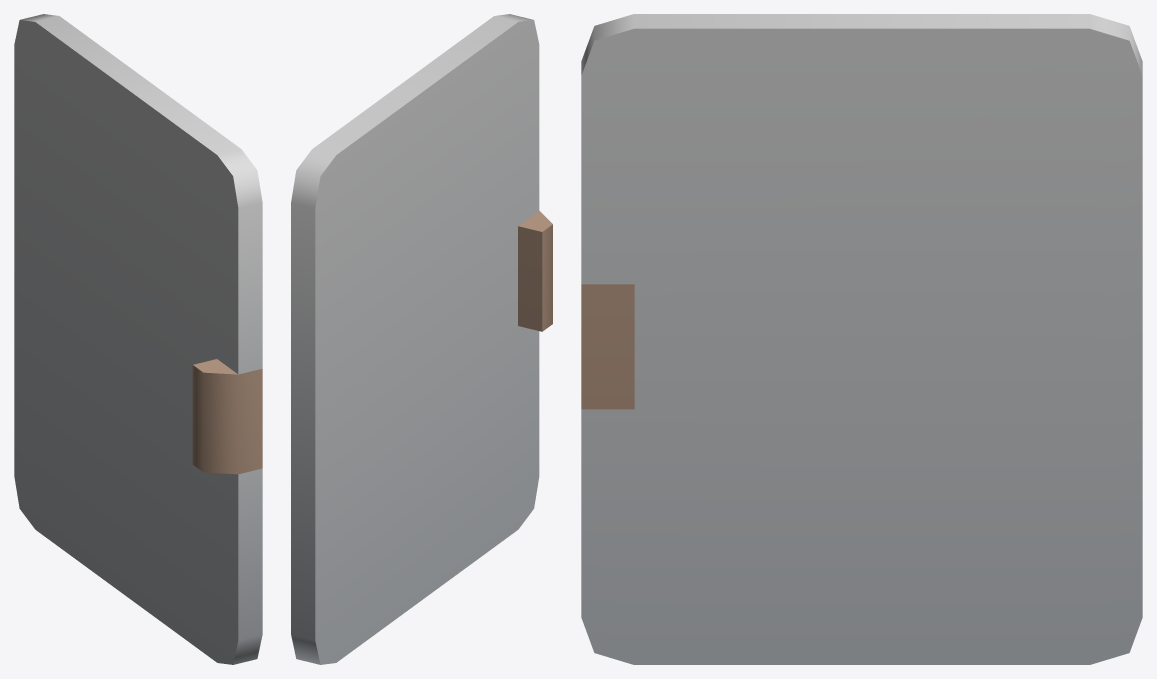
Rendered from (%no-merge) (%open-left) 3_0.glb.
3 renders of one model, left to right at view 1: azimuth 30°, elevation 25°; view 2: azimuth 150°, elevation 25°; view 3: azimuth 270°, elevation 25°, orthographic. The views are drawn at different scales.
Parts seen in each view (by area): view 1: (%no-merge) (%open-left) 3(Clone); view 2: (%no-merge) (%open-left) 3(Clone); view 3: (%no-merge) (%open-left) 3(Clone).
Part boxes in pixels (x1,y1,x2,y2): (%no-merge) (%open-left) 3(Clone): [14, 14, 262, 664]; (%no-merge) (%open-left) 3(Clone): [291, 14, 552, 664]; (%no-merge) (%open-left) 3(Clone): [581, 14, 1142, 664].
Bounding box in the file's own units: 0.05 × 0.5 × 0.4.
